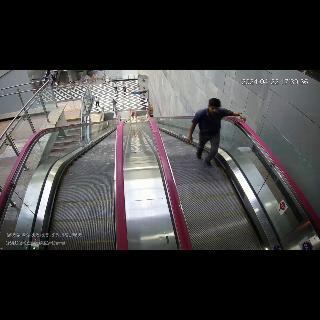normal: (188, 98, 246, 170), (94, 96, 100, 108), (114, 82, 118, 94), (112, 100, 116, 110), (122, 83, 126, 93)
